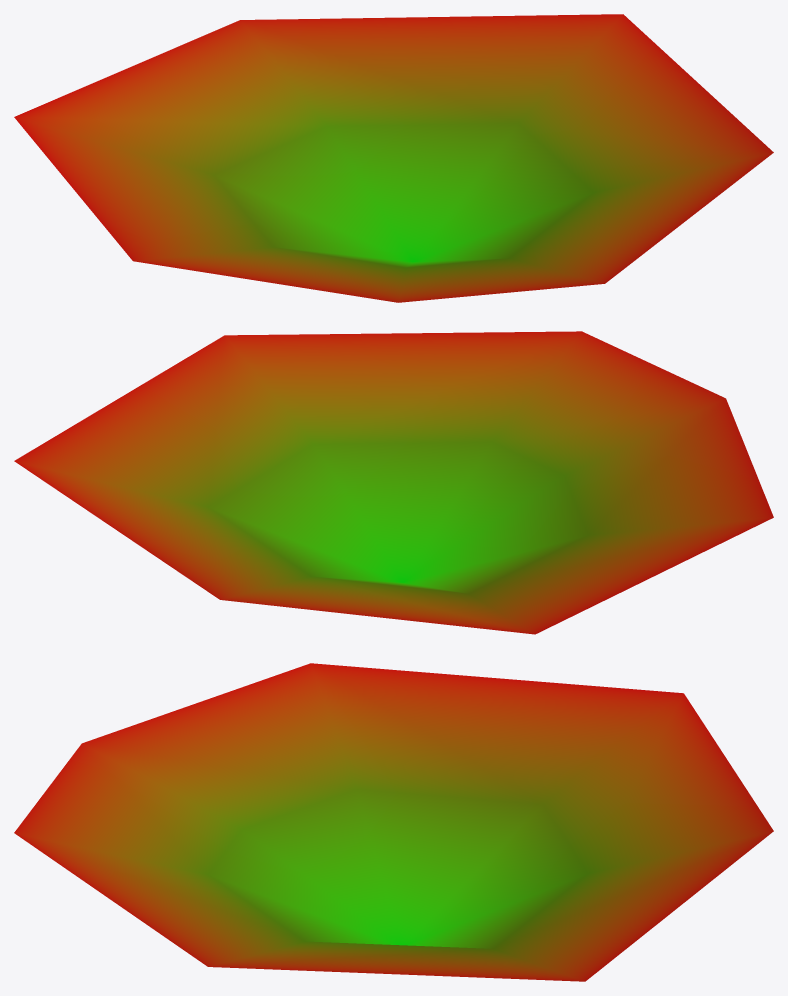
Rendered from Var25_LOD3.fbx.
The picture shows the model from 3 angles, top to bottom: view 1: azimuth 30°, elevation 25°; view 2: azimuth 150°, elevation 25°; view 3: azimuth 270°, elevation 25°; orthographic projection. The views are drawn at different scales.
Parts seen in each view (by area): view 1: _8boe_Var25_LOD3; view 2: _8boe_Var25_LOD3; view 3: _8boe_Var25_LOD3.
Boxes of the visible parts, x1=… form: _8boe_Var25_LOD3: x1=14, y1=14, x2=773, y2=302; _8boe_Var25_LOD3: x1=14, y1=331, x2=773, y2=634; _8boe_Var25_LOD3: x1=14, y1=663, x2=773, y2=981.
Bounding box in the file's own units: 16.03 × 2.75 × 16.16.
